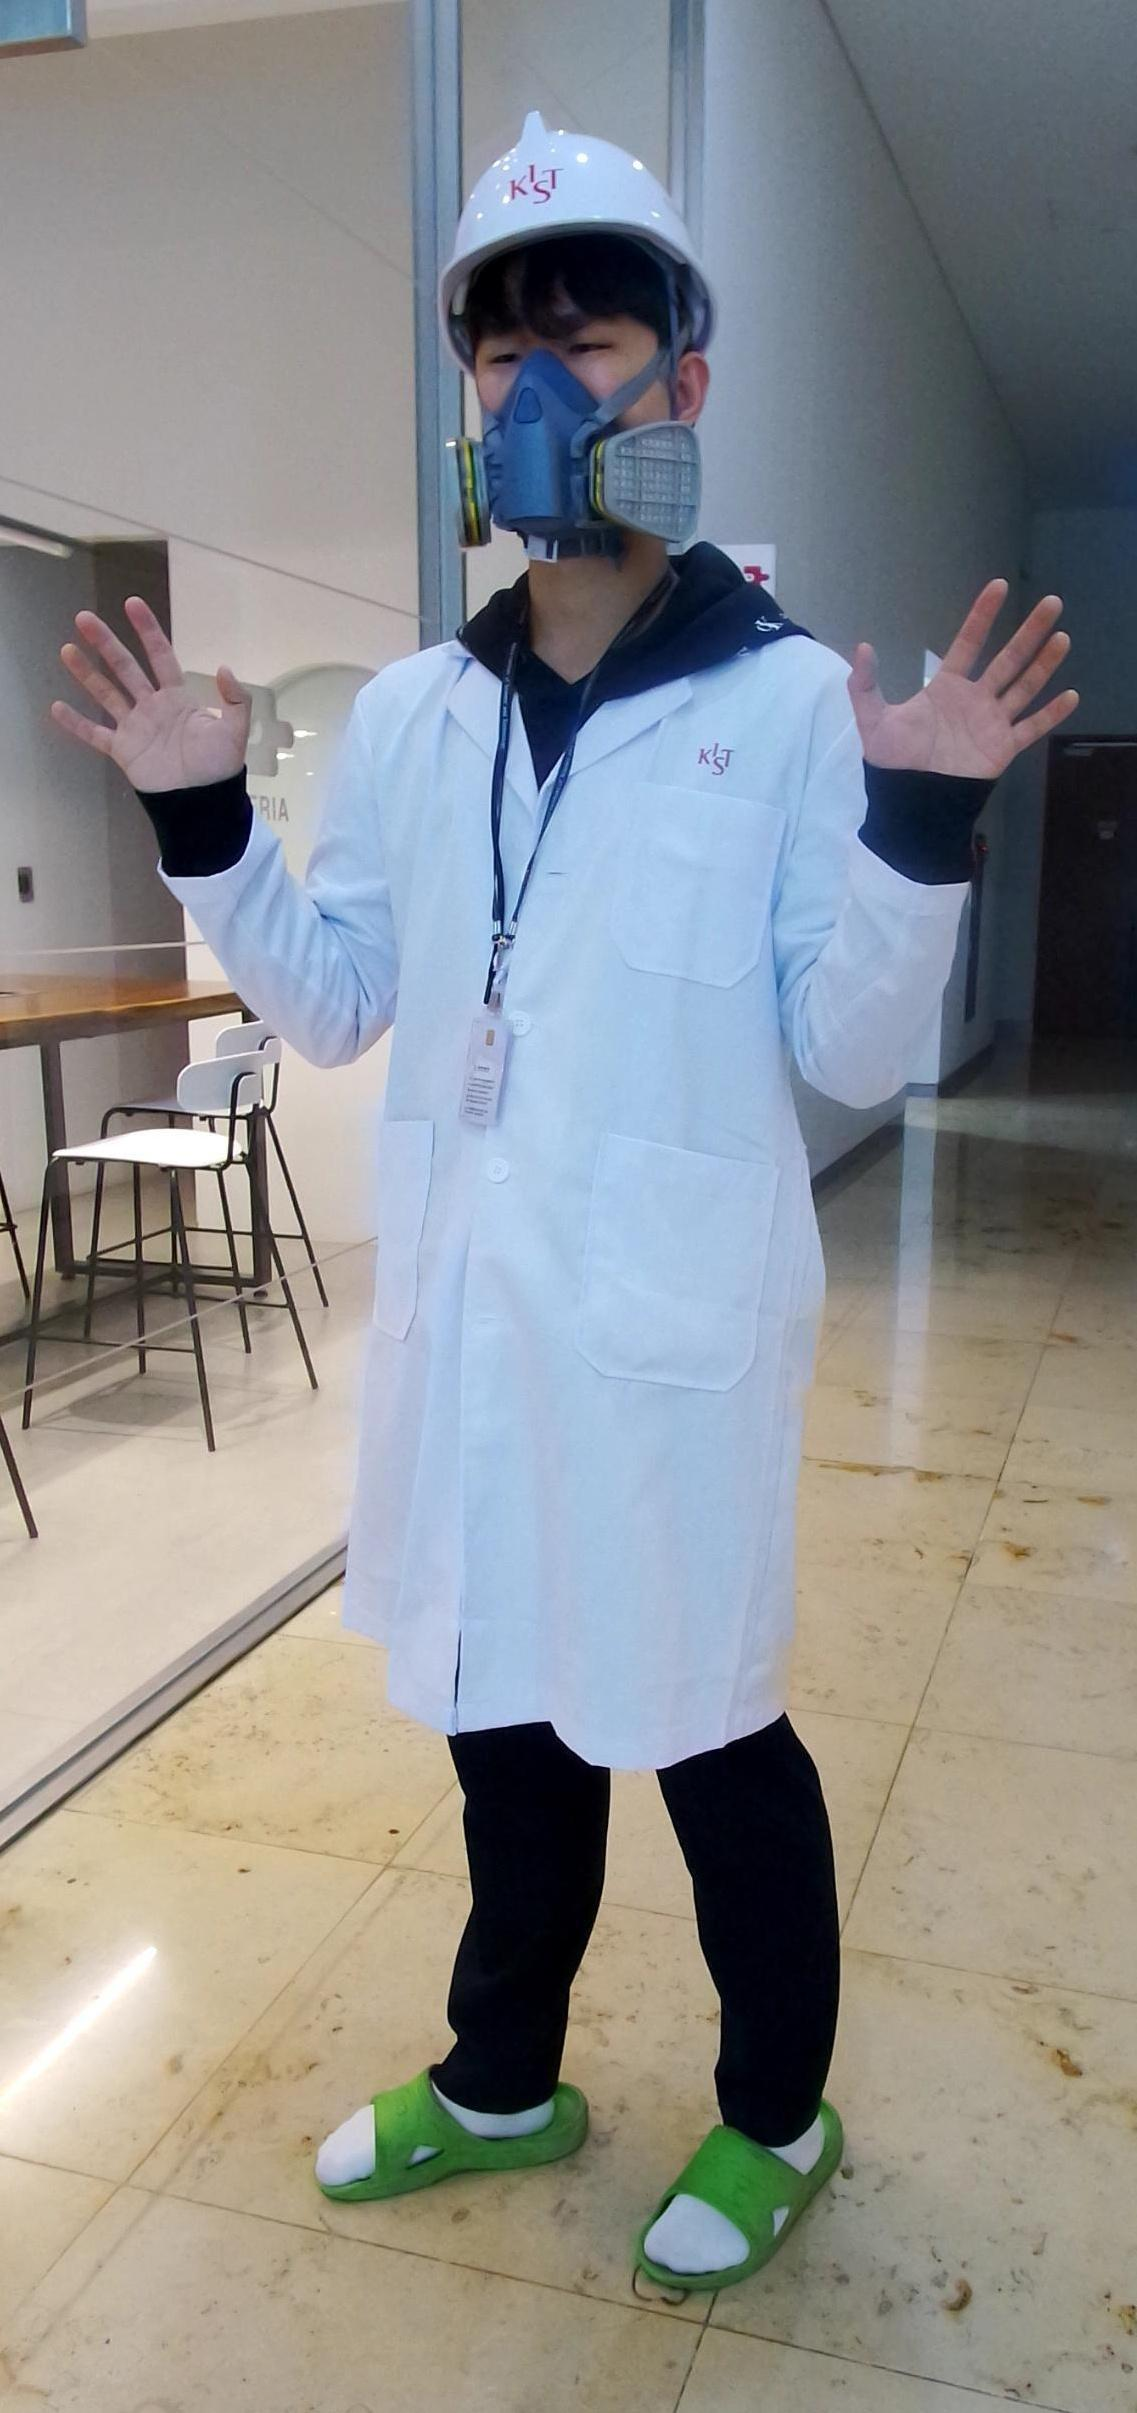lab_coat: (311, 631, 855, 1717)
